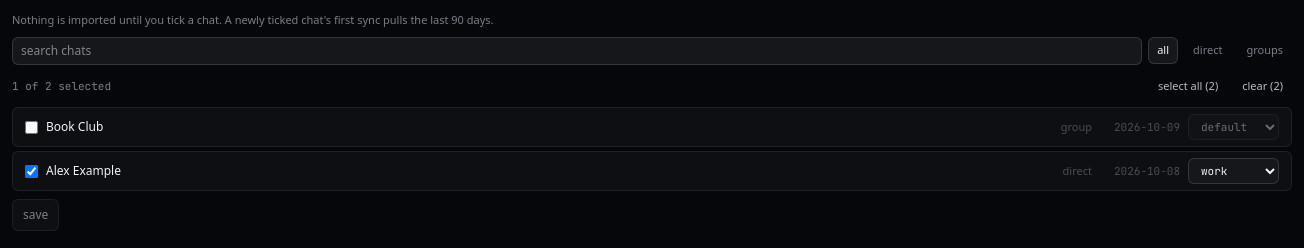
Test: WhatsAppChatPicker › shows a failed save
Click the checkbox named "include Book Club".
click(32, 127)  # box [25, 120, 38, 134]
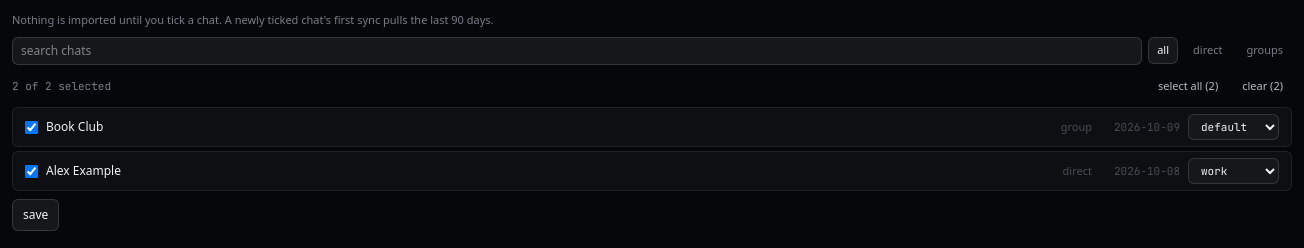
Click the button "save".
click(36, 215)  # box [12, 199, 59, 231]
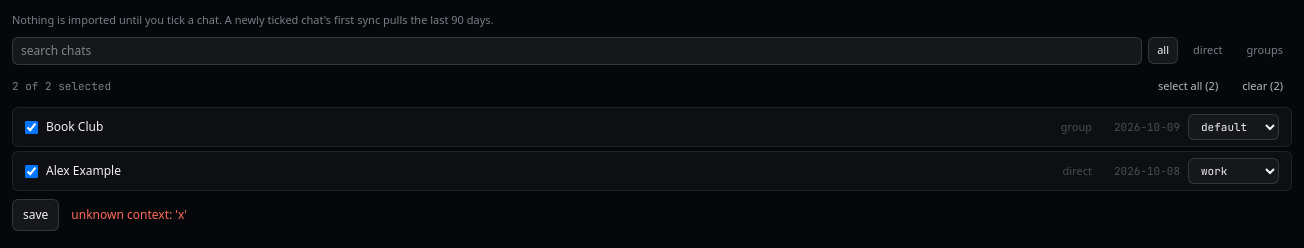
Now the text "unknown context: 'x'" is shown, box [71, 206, 187, 224]
